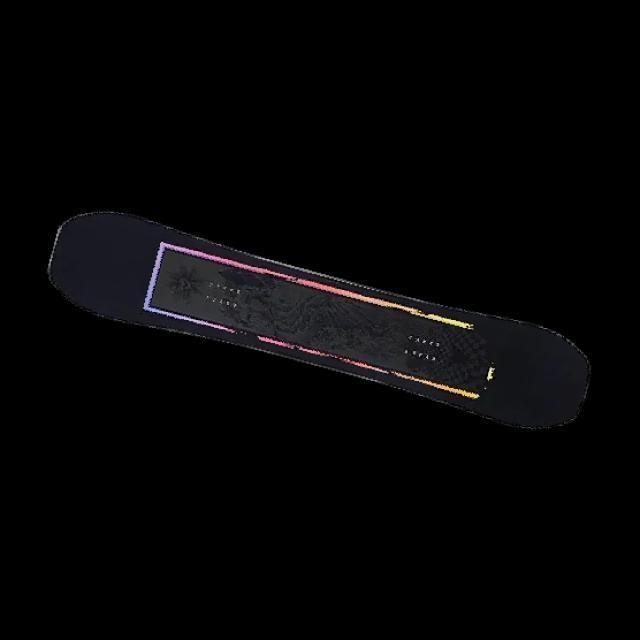Snowboard: (46, 209, 591, 431)
